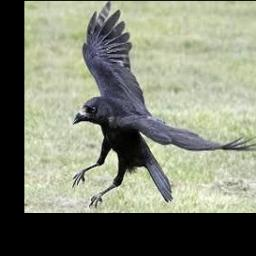Crow: (72, 1, 256, 207)
